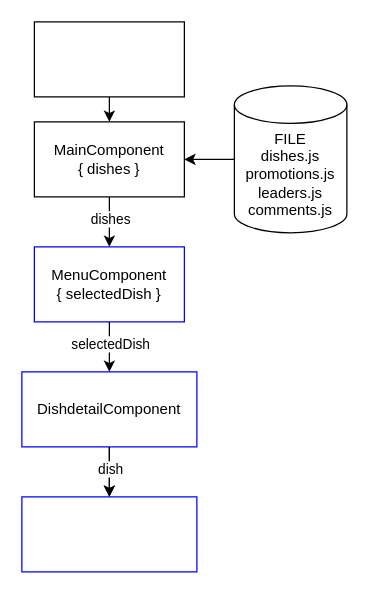
The diagram is 369 pixels wide and 594 high, and some of its shapes have lost their labels. Each missing label, with the centre of its shape:
"AppComponent" belongs at point 108,59.
"RenderDishComponent" belongs at point 109,534.
